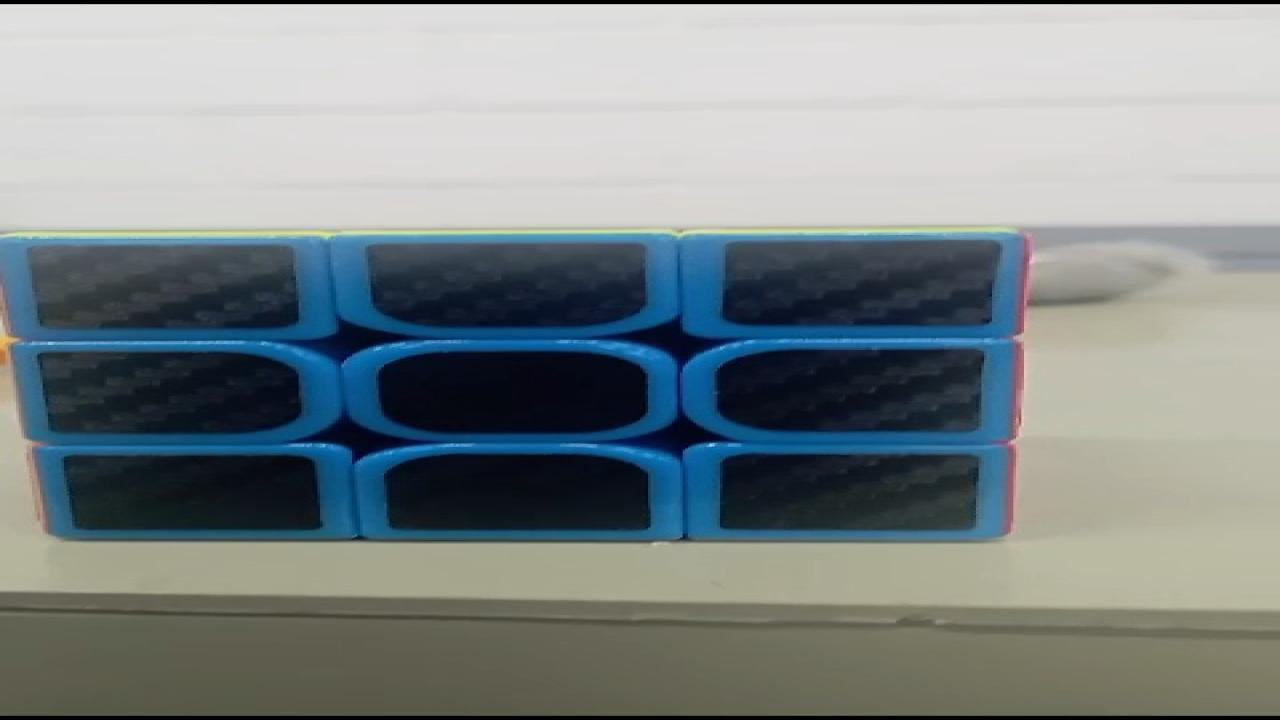Cube: (3, 226, 1037, 542)
